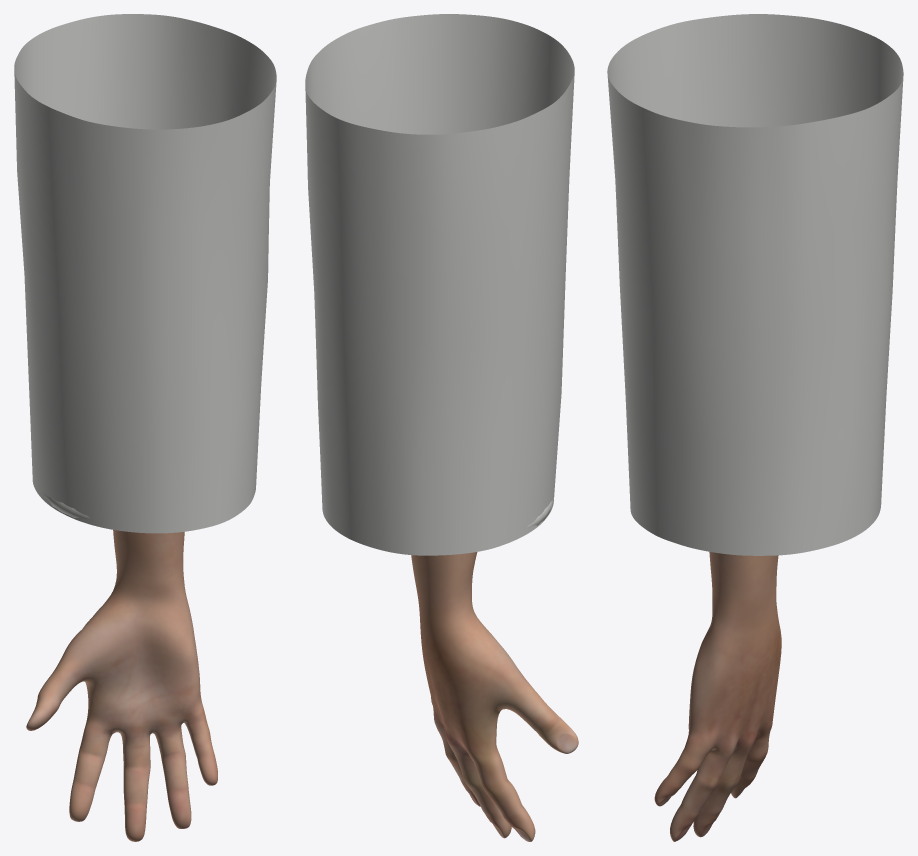
File: doctor_arm.glb
The picture shows the model from 3 angles, left to right: view 1: azimuth 30°, elevation 25°; view 2: azimuth 150°, elevation 25°; view 3: azimuth 270°, elevation 25°; orthographic projection. The views are drawn at different scales.
Visible parts, largest first — view 1: Cylinder, Human; view 2: Cylinder, Human; view 3: Cylinder, Human.
Part boxes in pixels (x1,y1,x2,y2): Cylinder: (14,14,276,533); Human: (26,530,217,841); Cylinder: (305,14,574,555); Human: (411,552,578,841); Cylinder: (607,14,903,555); Human: (654,552,781,841).
Size of the model in its own units: 0.1793 by 0.5397 by 0.1847.
Materials: 2 (1 with a texture image).
